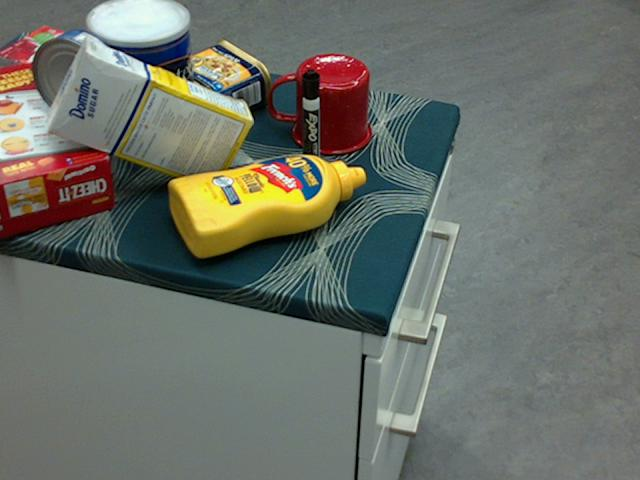cracker_box: (0, 61, 115, 236)
gelatin_box: (0, 26, 94, 89)
large_marker: (300, 69, 320, 176)
master_chef_can: (88, 0, 194, 159)
mug: (268, 53, 370, 155)
mustard_bottle: (168, 154, 366, 258)
potted_meat_can: (162, 39, 272, 127)
sugar_box: (48, 39, 254, 188)
tomato_soup_can: (71, 17, 153, 109)
tuna_fish_can: (32, 30, 123, 121)
